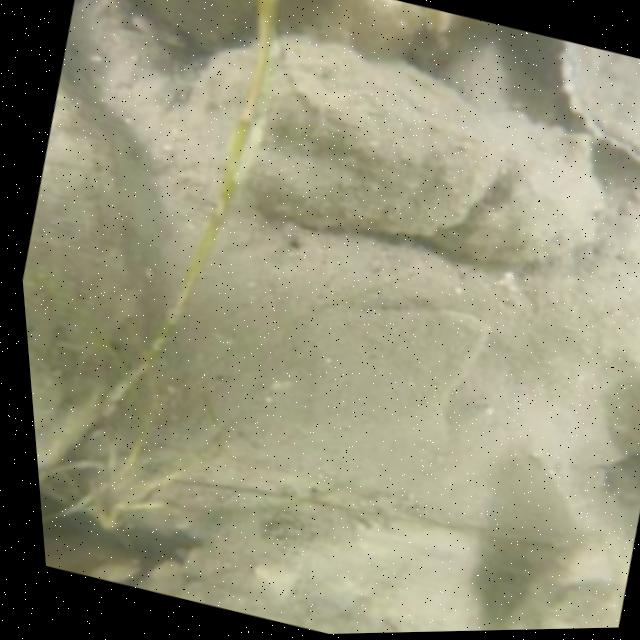Oyster-Closed: (23, 96, 137, 470), (564, 41, 640, 166), (506, 558, 629, 630)
Oyster-Indeterminate: (245, 34, 497, 235), (132, 509, 491, 634), (440, 105, 601, 265), (136, 0, 258, 46)
